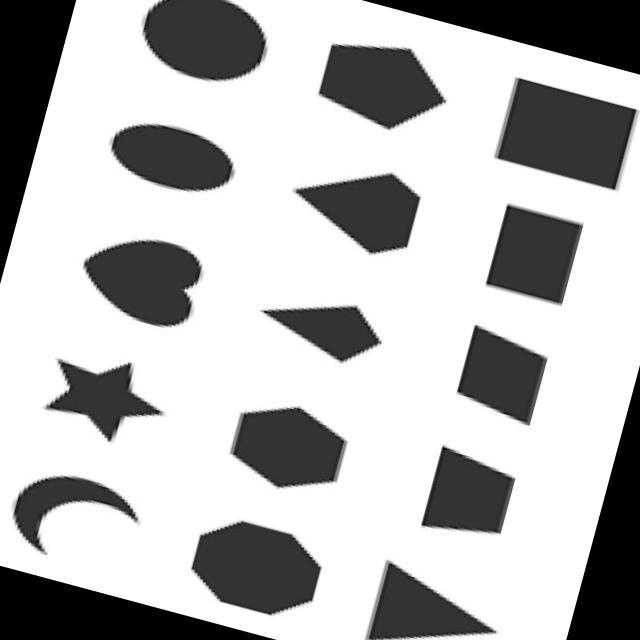circle: (98, 100, 264, 228), (130, 0, 280, 106)
square: (480, 48, 640, 208), (476, 188, 586, 324)
triangle: (350, 528, 508, 640)
